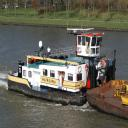tugboat: (9, 22, 118, 112)
